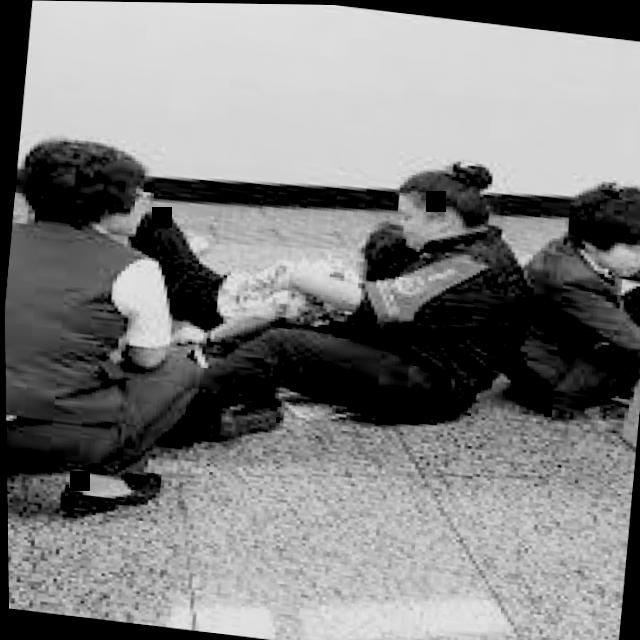Fall-Detected: (113, 88, 543, 509)
